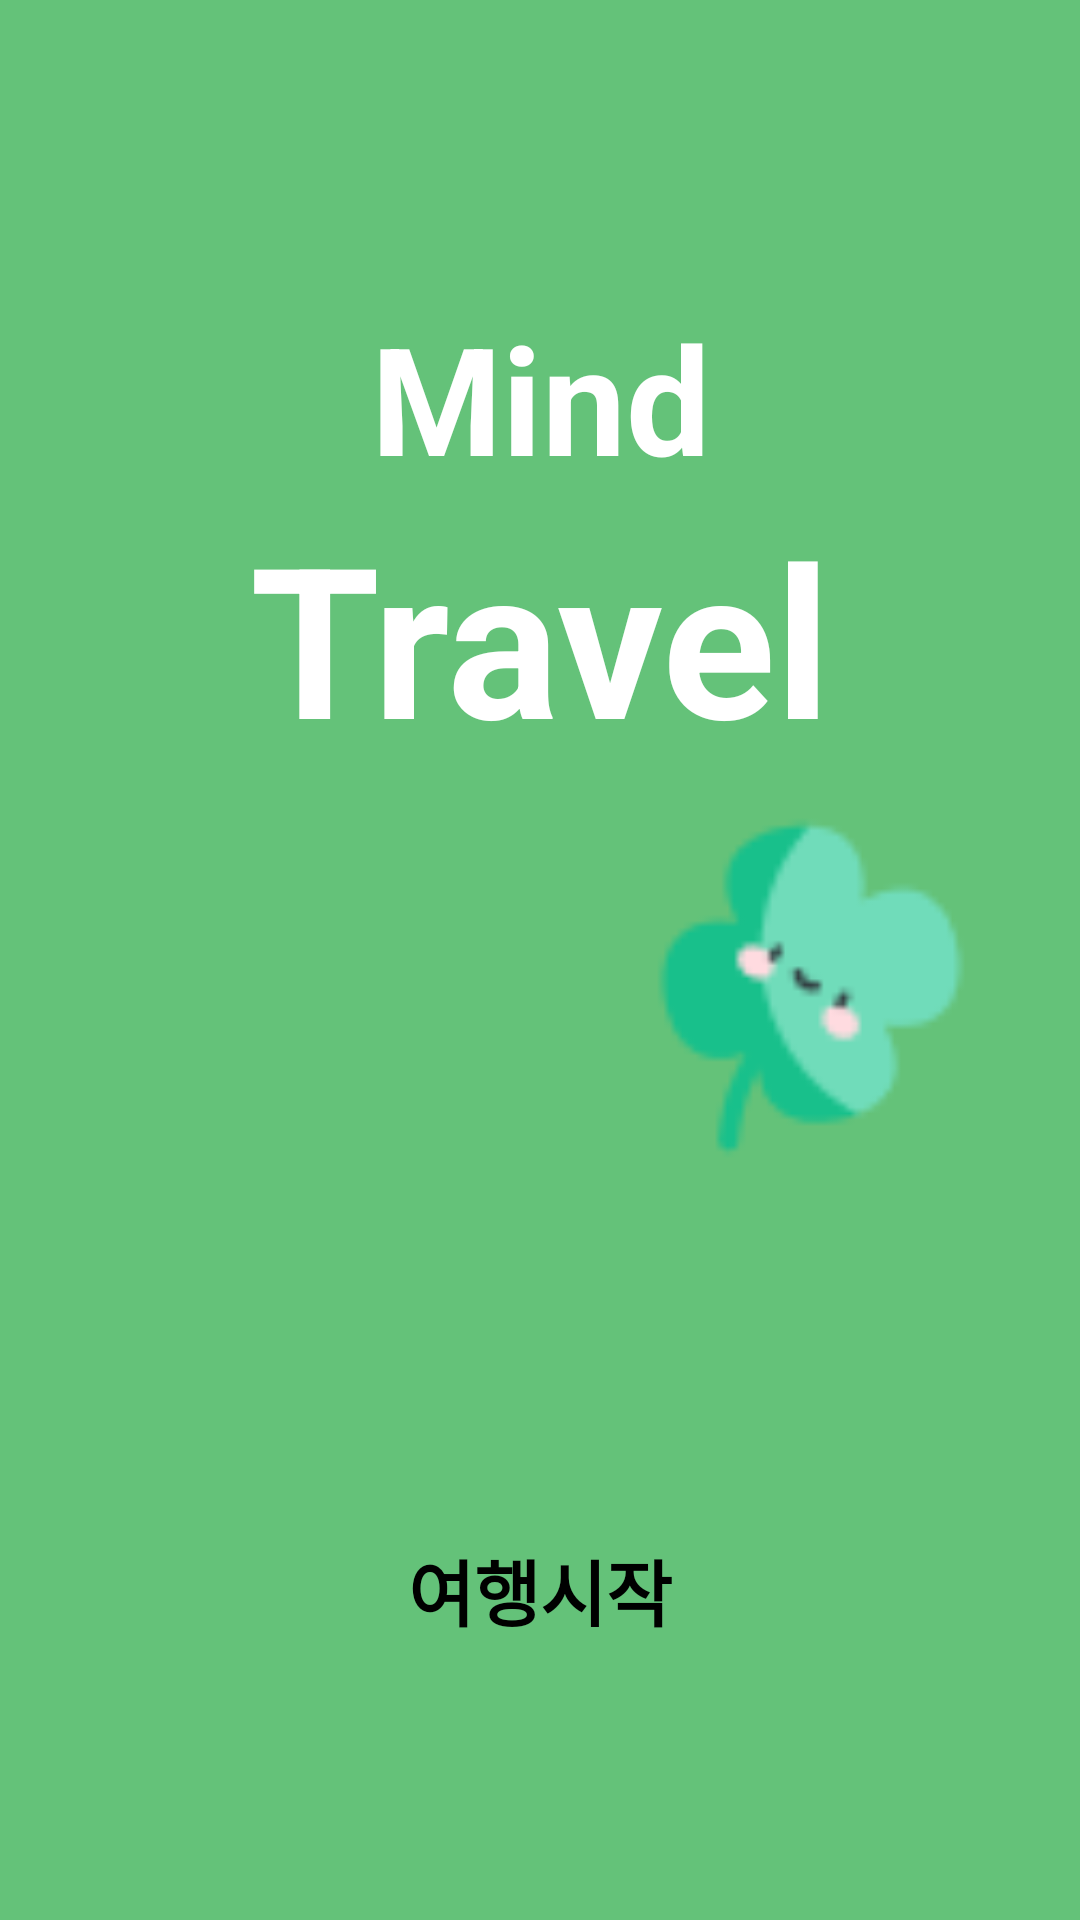

Screen size 1080 x 1920. Icon name, then its center in pixels as point (x, y):
clover angle: point (810, 988)
